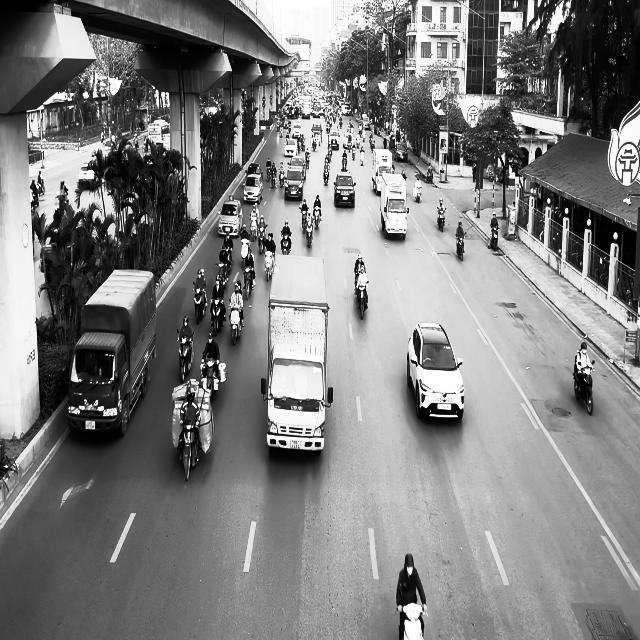car: (406, 321, 464, 421), (218, 197, 243, 236), (334, 171, 356, 208), (284, 168, 304, 200), (78, 161, 96, 187), (395, 142, 408, 161)
motorbike: (178, 407, 201, 481), (574, 357, 596, 414), (177, 329, 194, 382), (229, 304, 244, 345), (210, 296, 226, 334), (355, 277, 369, 320), (193, 282, 206, 324), (242, 266, 256, 300), (264, 248, 276, 281), (280, 230, 292, 256), (456, 233, 467, 261), (488, 225, 499, 252), (258, 225, 267, 254), (437, 207, 447, 232), (313, 206, 322, 229), (413, 184, 422, 202), (324, 160, 330, 185), (426, 165, 434, 182)
truck: (66, 268, 157, 438), (261, 254, 334, 454)
